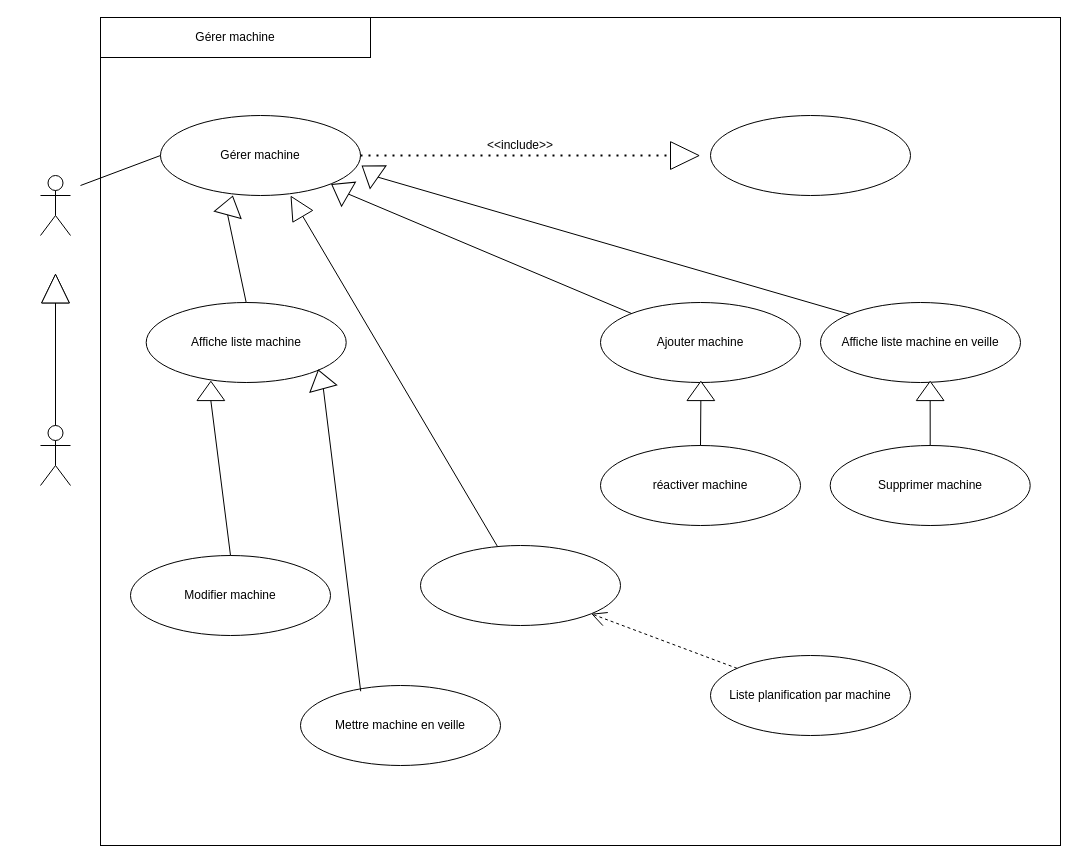
Image size: 1078x863. Some labels were removed from this diagram. The shapes that lost their labels are listed below. From the top down, each one's centre as x and y in pixels, then its label:
pixel 810 155: S'authentifier
pixel 55 205: Chef d'atelier
pixel 55 455: administrateur
pixel 520 585: Affiche liste machine en marche
